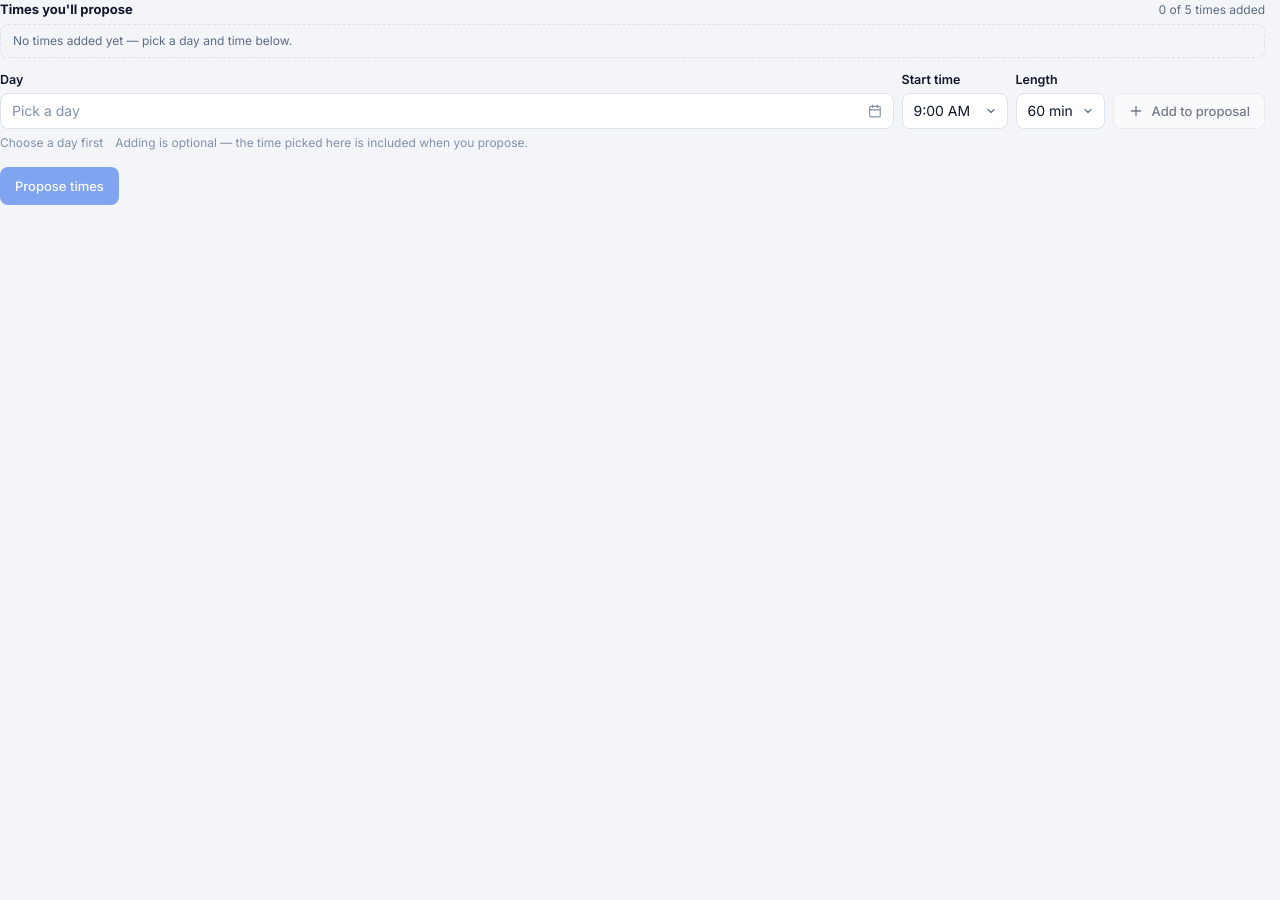
Test case: ProposeSlotsForm › says so when no times are left today
Click the button "Pick a day". click: coordinates (46, 110)
box: x1=0 y1=92 x2=894 y2=128
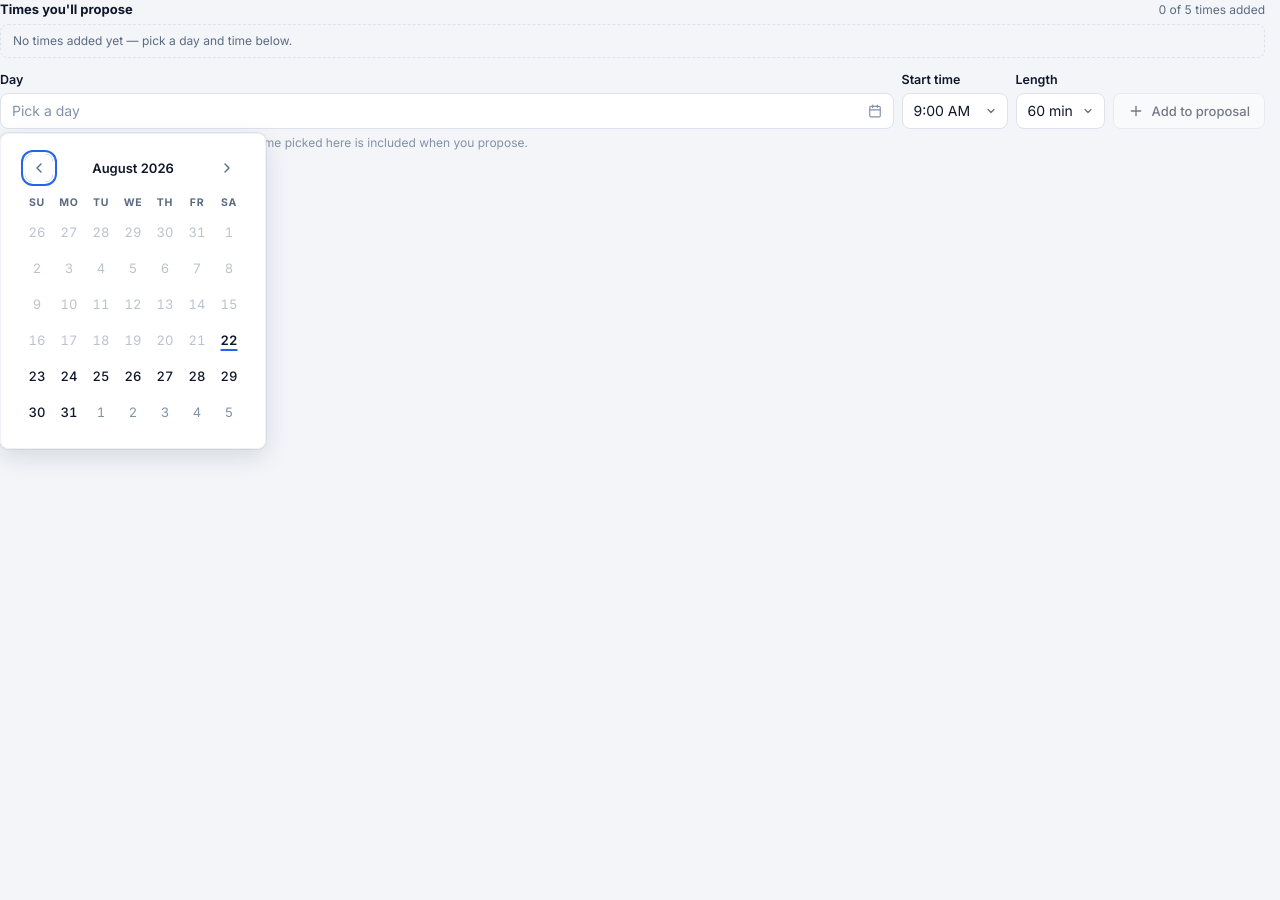
Click the button "22". click: coordinates (229, 340)
box: x1=213 y1=324 x2=245 y2=356
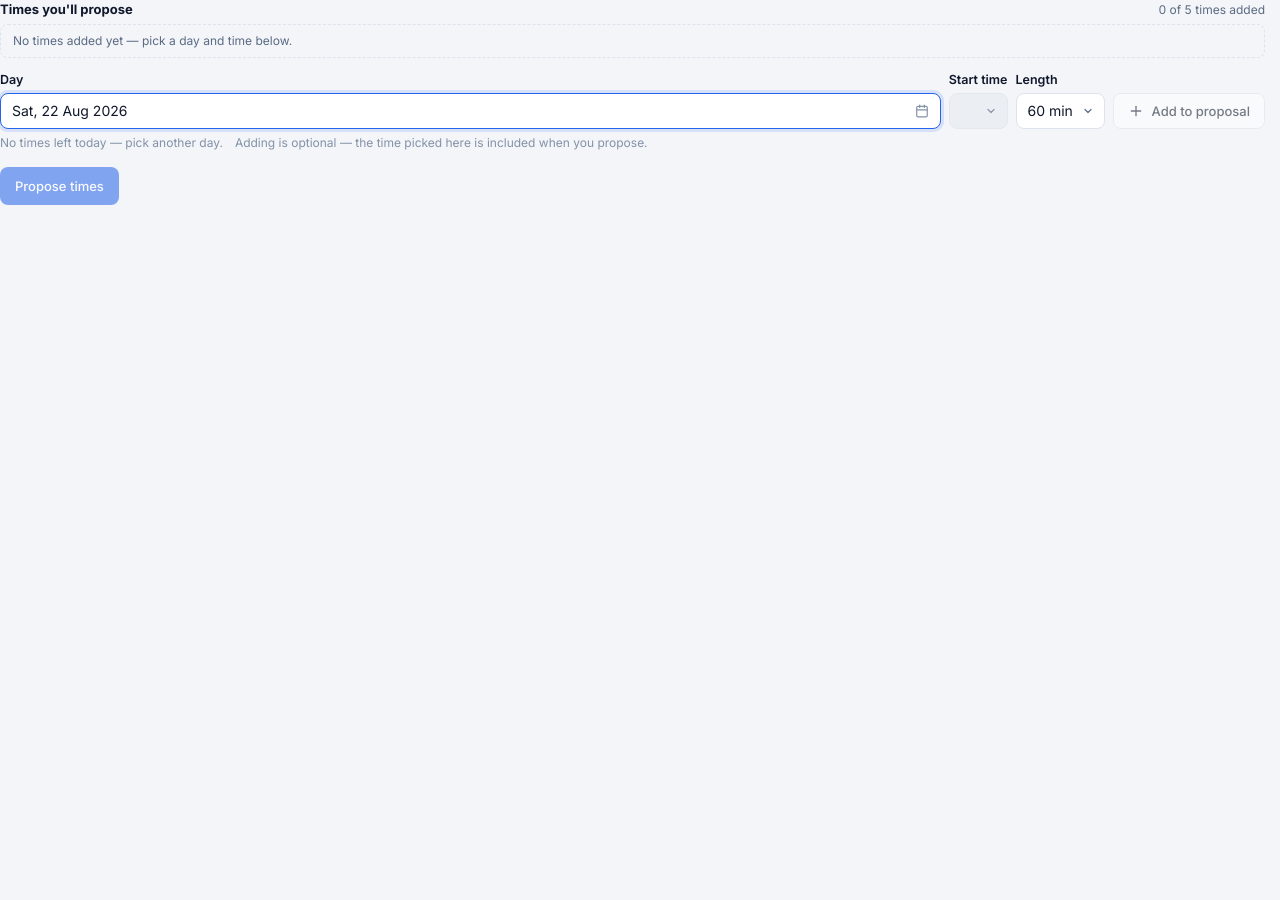
Expected: the button "Add to proposal" is disabled, x1=1112 y1=92 x2=1265 y2=128
Result: the text "No times left today — pick another day." is shown at x1=0 y1=134 x2=223 y2=150
Result: the dropdown labelled "Start time" is disabled at x1=949 y1=92 x2=1008 y2=128
